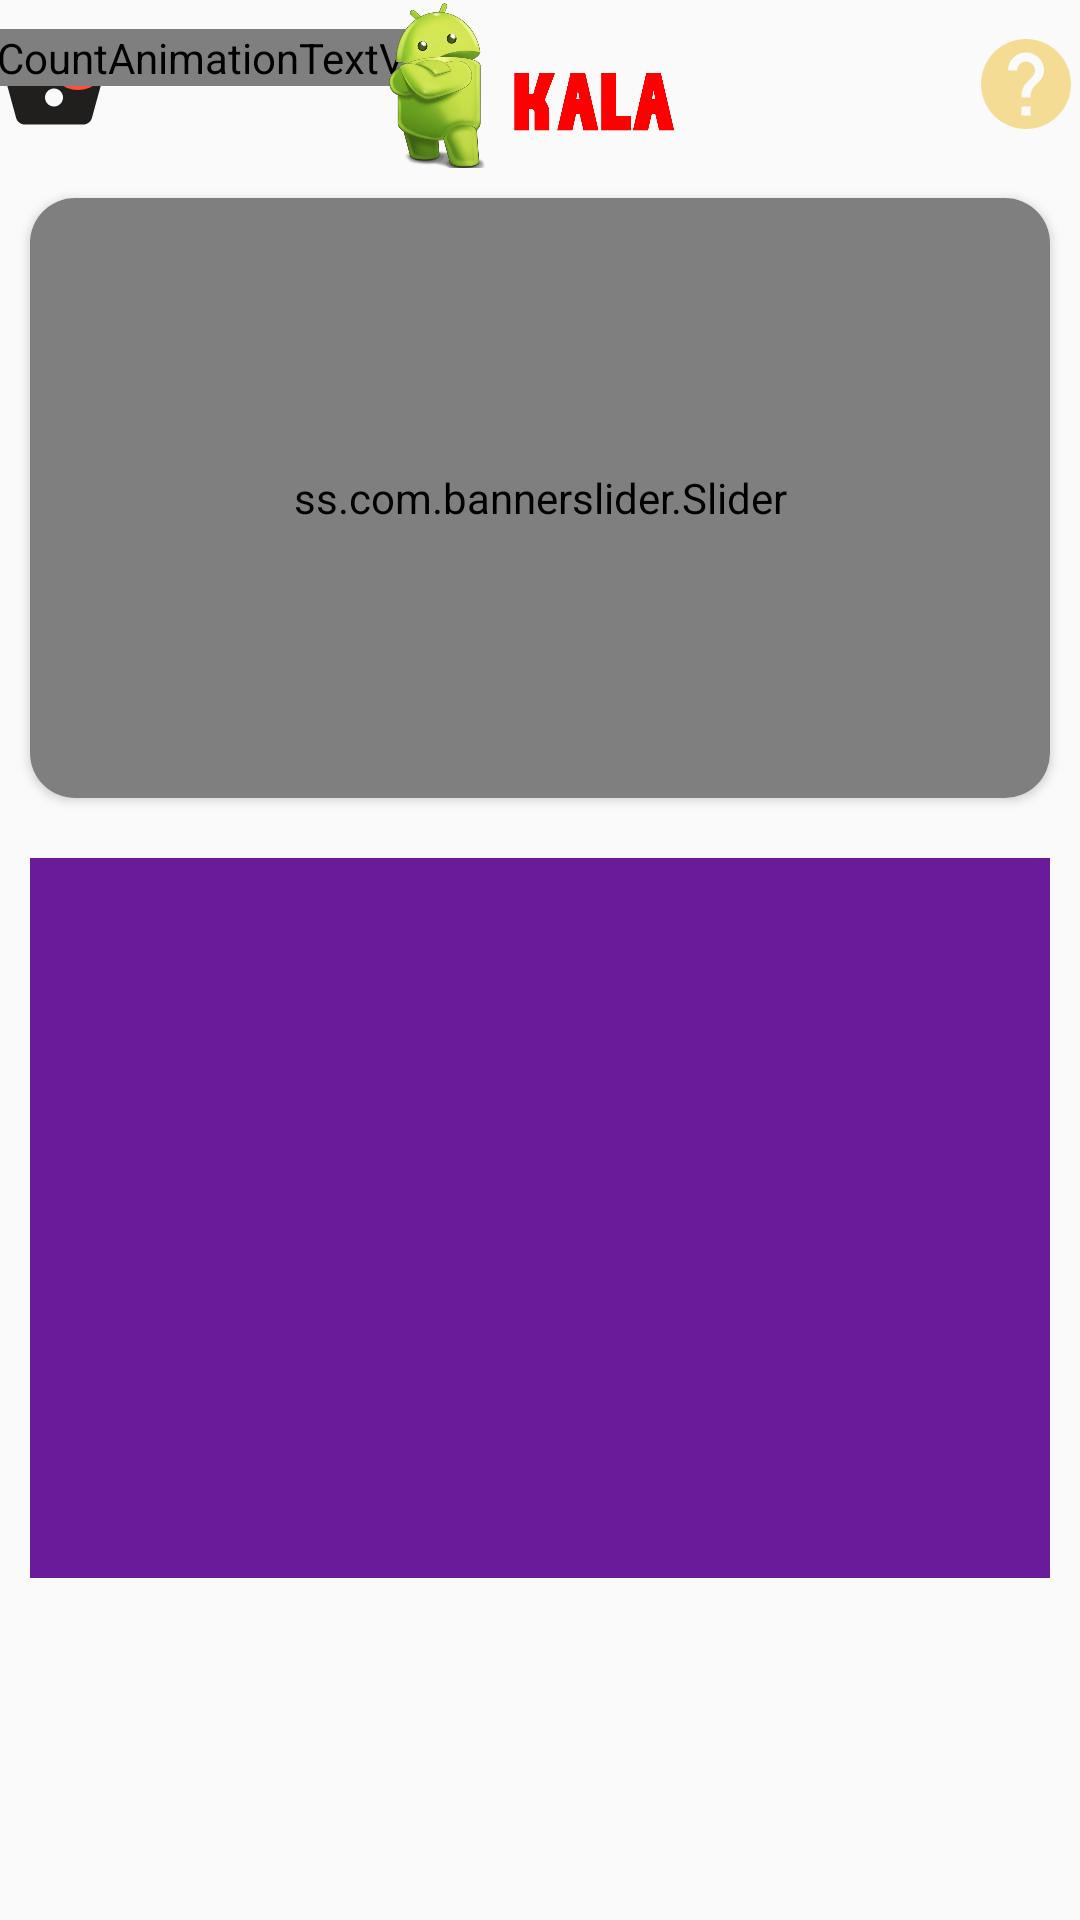

Point at icon controls on the screen. Image size 1080×1920, points as (x=x, y=y).
help: (x=1026, y=84)
